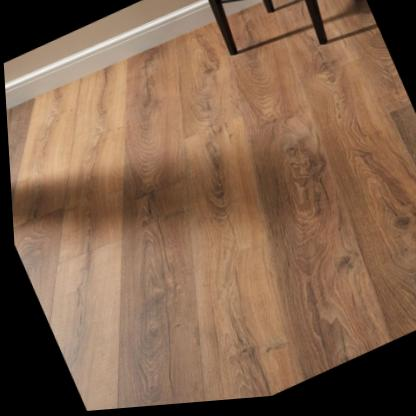Wooden floor: (5, 0, 416, 412)
